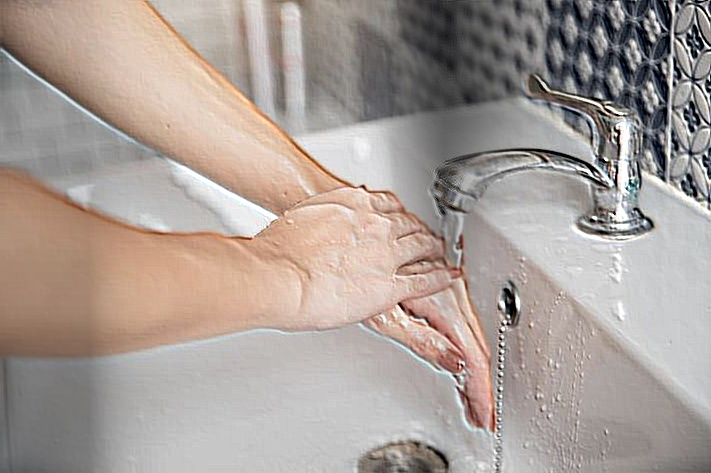washing hand: (176, 23, 651, 459)
